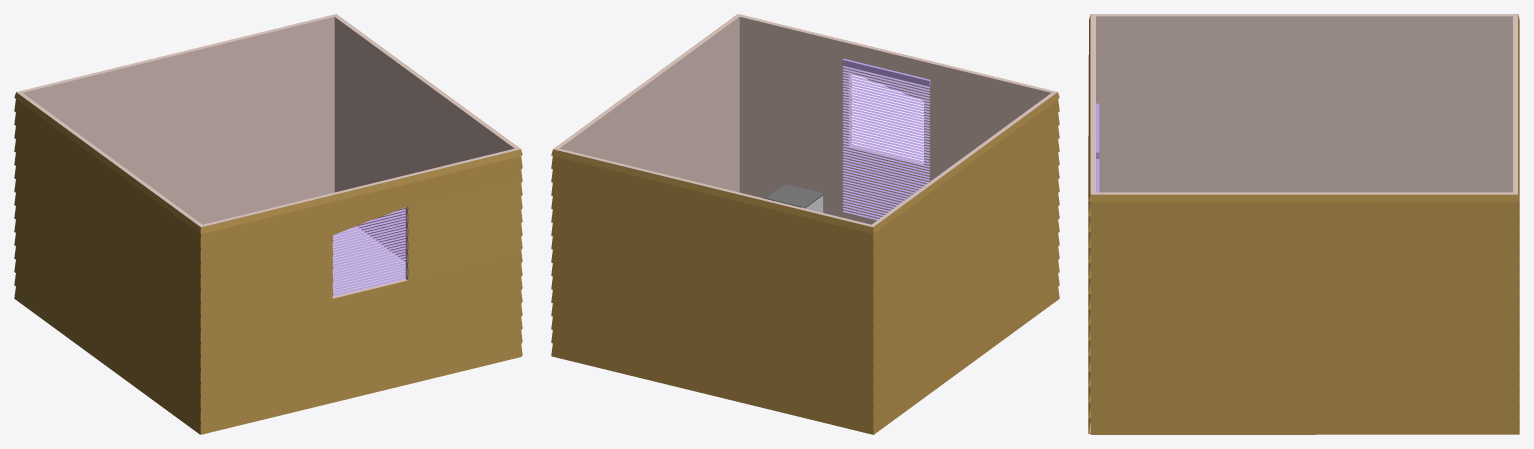
File: Diagnostics scene1 1.fbx
3 views of the same model, side by side, from view 1: azimuth 30°, elevation 25°; view 2: azimuth 150°, elevation 25°; view 3: azimuth 270°, elevation 25° (orthographic). The views are drawn at different scales.
Visible parts, largest first — view 1: Wall_cover, Room, Venetian_slats, Baseboard; view 2: Wall_cover, Room, Venetian_slats, Countertop1, VenetianFrame; view 3: Wall_cover, Room.
Part boxes in pixels (x1,y1,x2,y2): Wall_cover: (14, 14, 522, 434); Room: (16, 14, 520, 298); Venetian_slats: (332, 207, 405, 296); Baseboard: (332, 227, 405, 294); Wall_cover: (551, 14, 1059, 434); Room: (553, 14, 1057, 227); Venetian_slats: (843, 66, 930, 220); Countertop1: (762, 184, 823, 208); VenetianFrame: (842, 59, 930, 86); Wall_cover: (1088, 14, 1519, 434); Room: (1090, 14, 1517, 194).
Bounding box in the file's own units: 505 × 309 × 505.
